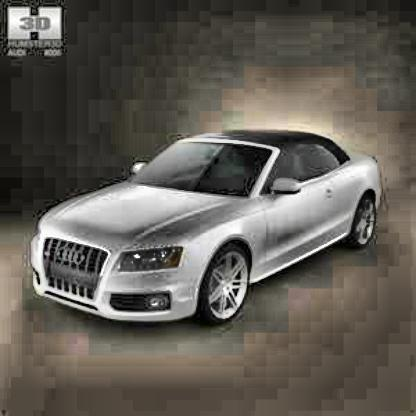Audi S5 Convertible 2012: (35, 133, 384, 329)
